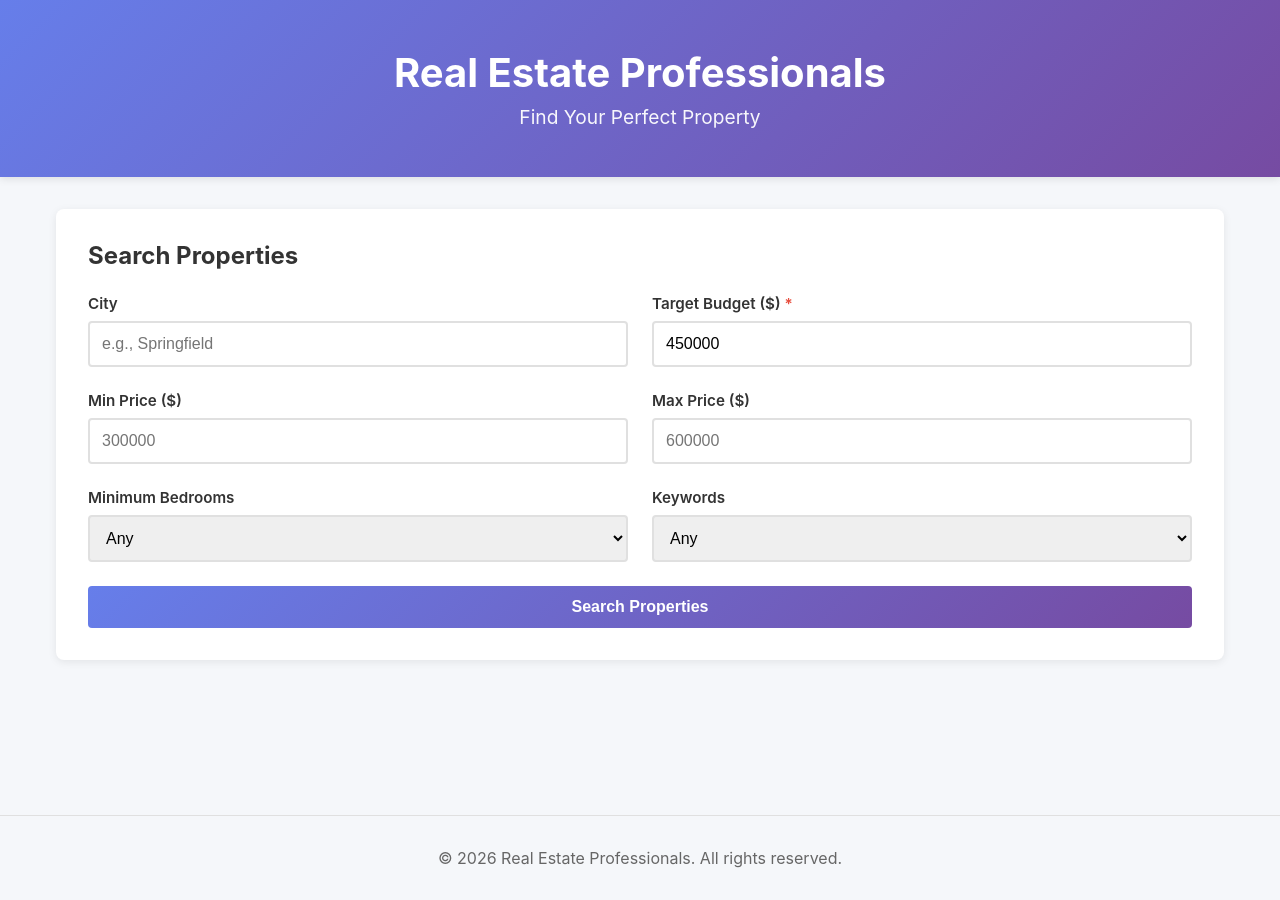
Test: App results pagination › offers 3, 5 and 10 page size options
The image size is (1280, 900).
What coordinates should you click on to do the following:
click the button "Search Properties"
I would click on:
 (640, 607)
Its box is [88,586,1192,628].
(page scrolled)
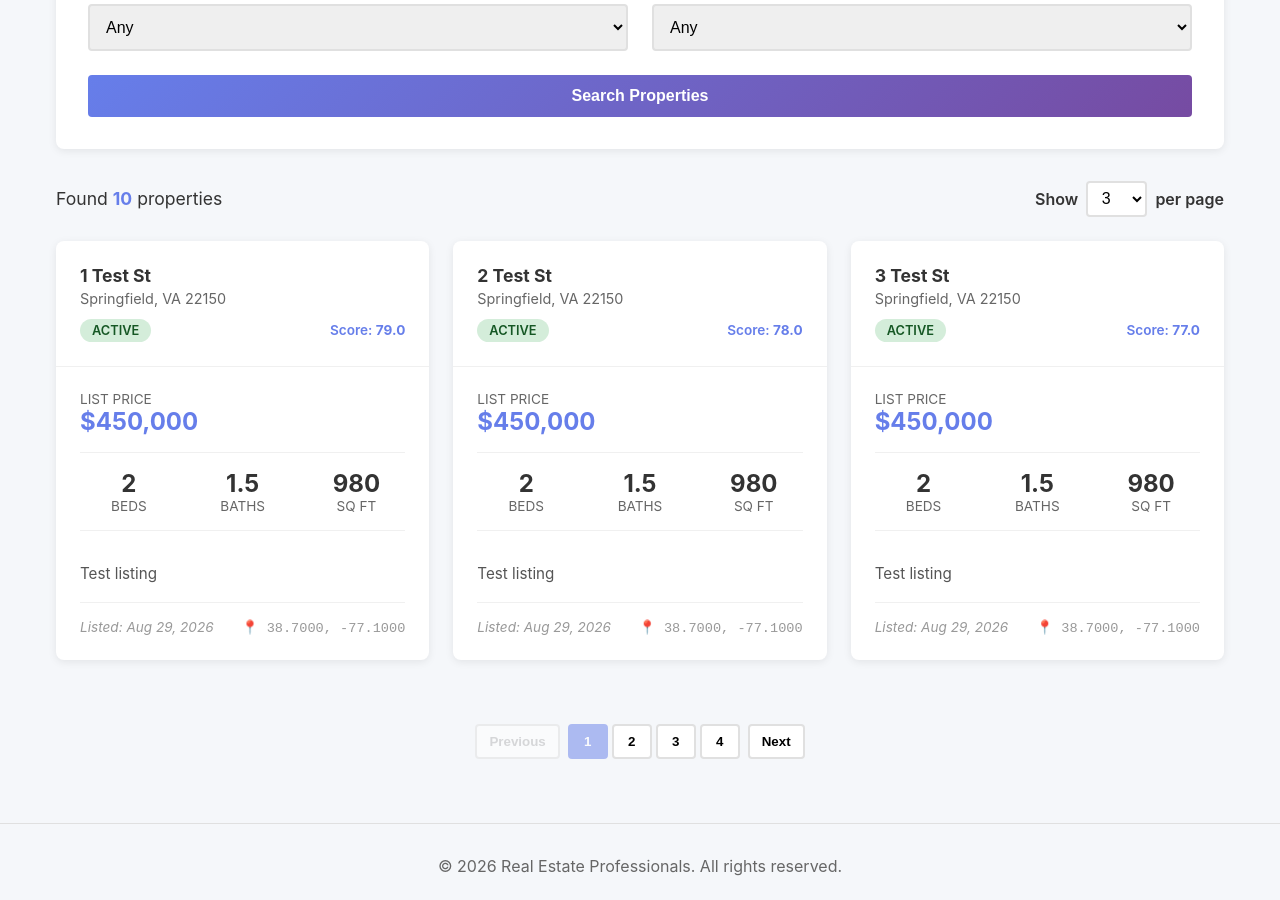
expect the element with class "results-list" is shown: met, box [56,241,1224,660]
